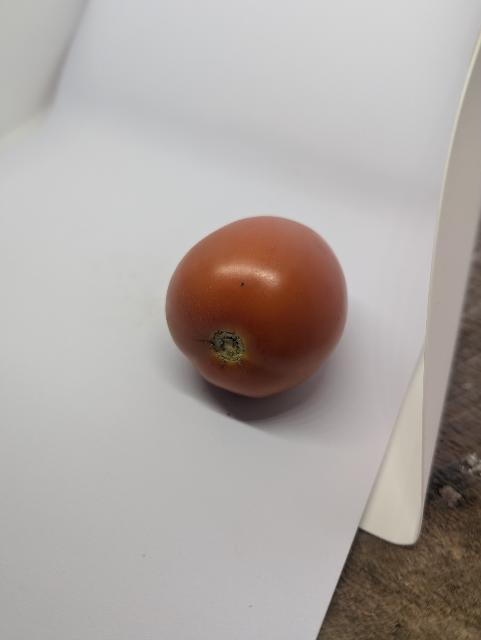red: (147, 213, 365, 424)
